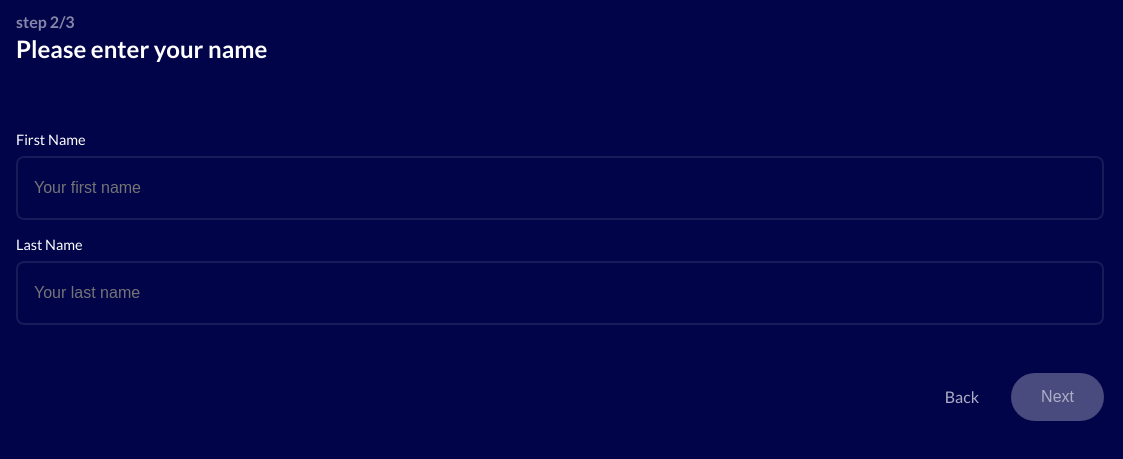
Test: component StepDriverOne › should not sumbit when firsName is empty
The width and height of the screenshot is (1123, 459).
In the field labelled "Last Name": (560, 293) [16,261,1104,325], type "lastName"
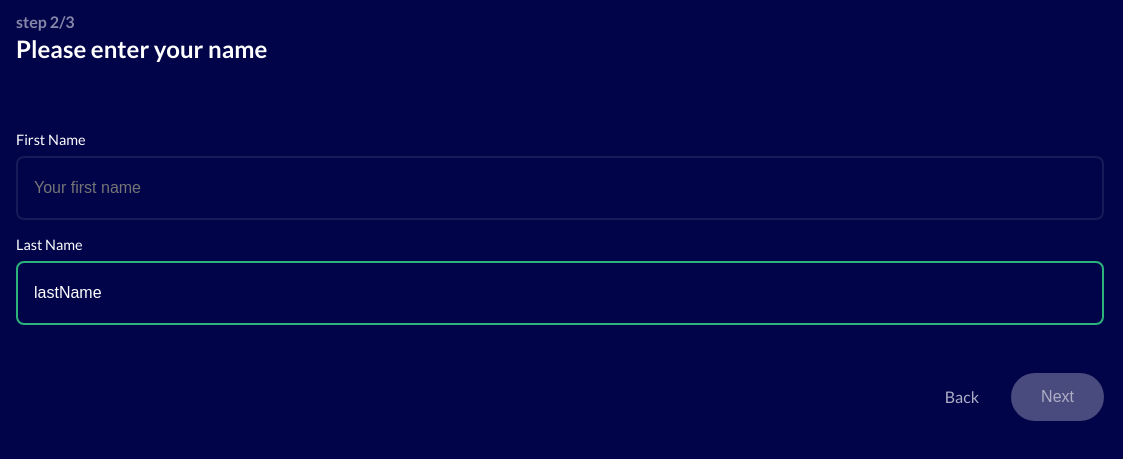
Click the button "Next": (1058, 397) [1011,373,1104,421]
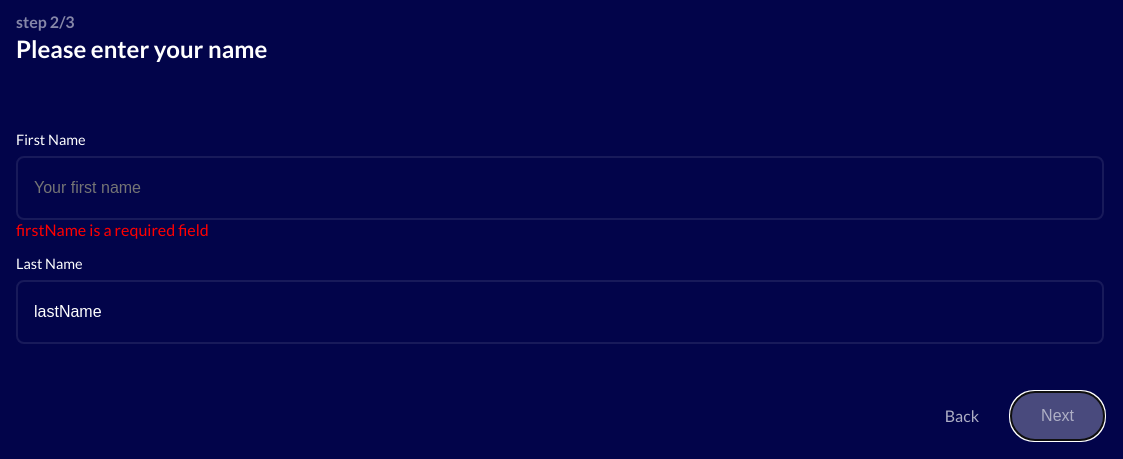
Result: the text "firstName is a required field" is shown at [16,220,209,239]
